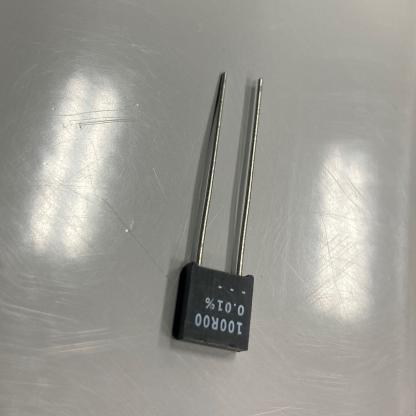SP0000007: (139, 42, 311, 380)
